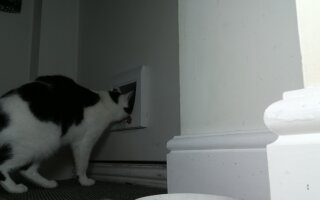bad: (3, 74, 139, 198)
